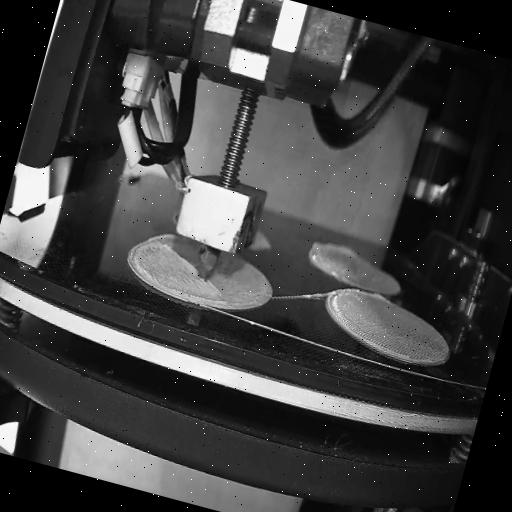over_extrusion: (306, 237, 360, 275), (161, 241, 201, 271), (203, 277, 225, 298), (370, 290, 392, 306)
